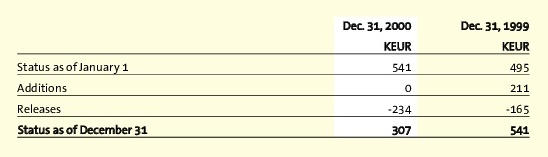table: (0, 0, 548, 157)
